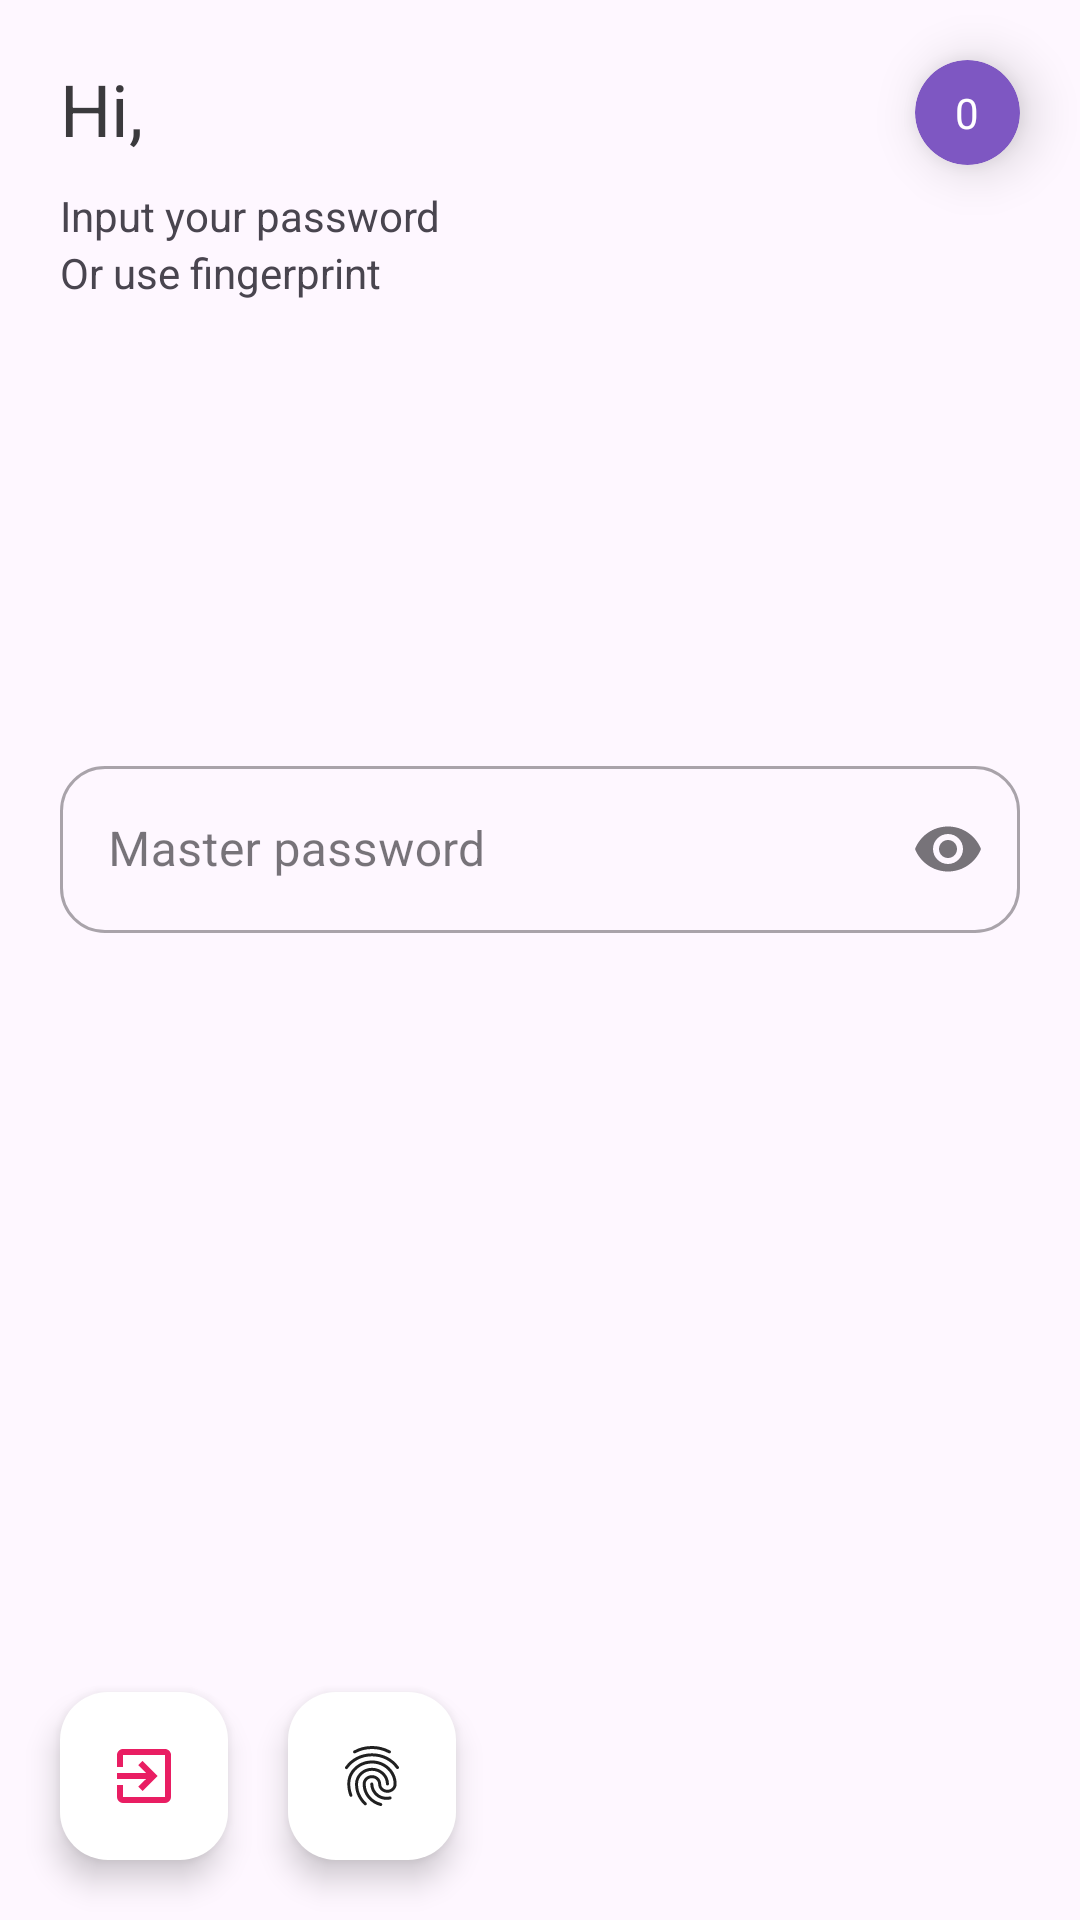

Screen size 1080×1920. Icon name, then its center in pixels as (x,y):
exit to app: (144,1776)
fingerprint: (372,1776)
